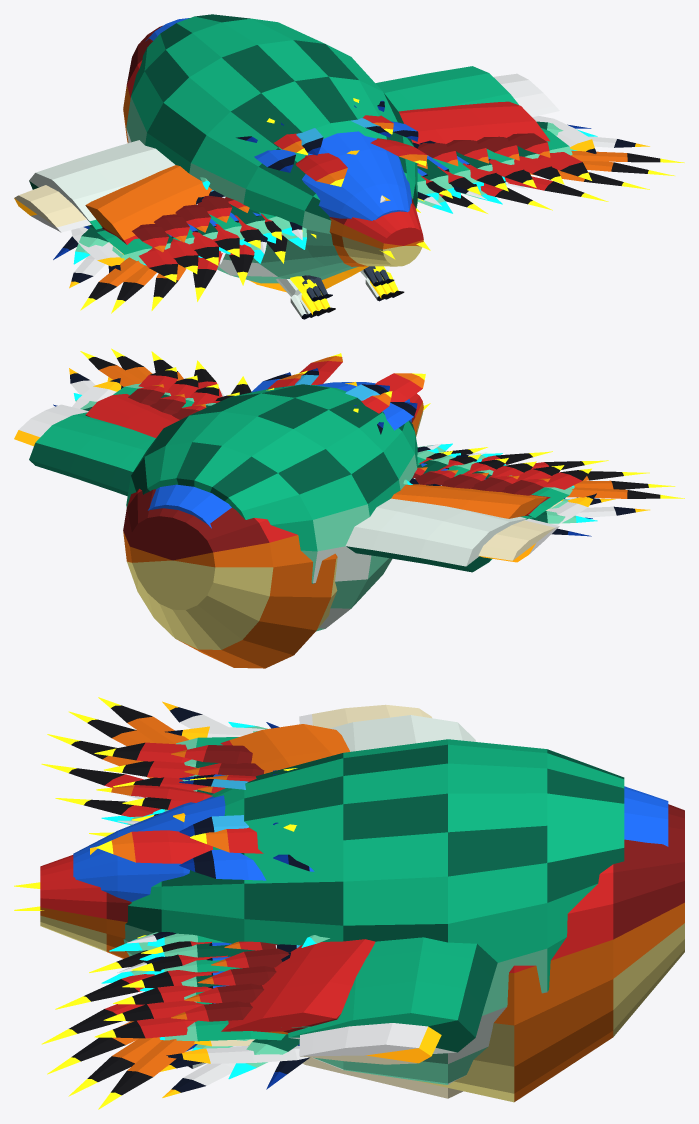
The model's file is skypeck_birds.glb.
3 views of the same model, one above another, from view 1: azimuth 30°, elevation 25°; view 2: azimuth 150°, elevation 25°; view 3: azimuth 270°, elevation 25° (orthographic). The views are drawn at different scales.
Visible parts, largest first — view 1: emerald_owl__body, crimson_falcon__wing_inner_L, crimson_falcon__wing_inner_R, sky_jay__body, crimson_falcon__body, emerald_owl__wing_inner_L, emerald_owl__wing_inner_R, crimson_falcon__wing_outer_L, crimson_falcon__wing_outer_R, origami_glider__wing_inner_L, origami_glider__wing_inner_R, emerald_owl__wing_outer_L (+4 smaller); view 2: emerald_owl__body, crimson_falcon__body, emerald_owl__wing_inner_L, crimson_falcon__wing_inner_L, emerald_owl__wing_inner_R, crimson_falcon__wing_inner_R, sky_jay__body, crimson_falcon__wing_outer_L, origami_glider__wing_inner_L, crimson_falcon__wing_outer_R, origami_glider__wing_inner_R, emerald_owl__wing_outer_L (+1 smaller); view 3: emerald_owl__body, crimson_falcon__body, crimson_falcon__wing_inner_R, emerald_owl__wing_inner_R, sky_jay__body, crimson_falcon__wing_inner_L, origami_glider__wing_inner_R, crimson_falcon__wing_outer_R, crimson_falcon__wing_outer_L, emerald_owl__wing_inner_L, origami_glider__wing_inner_L, emerald_owl__wing_outer_R (+4 smaller).
Boxes of the visible parts, <box> form: emerald_owl__body: <box>126,14,417,319</box>; crimson_falcon__wing_inner_L: <box>85,165,302,282</box>; crimson_falcon__wing_inner_R: <box>398,101,591,201</box>; sky_jay__body: <box>145,18,418,301</box>; crimson_falcon__body: <box>123,25,427,315</box>; emerald_owl__wing_inner_L: <box>29,140,294,265</box>; emerald_owl__wing_inner_R: <box>375,66,572,200</box>; crimson_falcon__wing_outer_L: <box>80,233,316,313</box>; crimson_falcon__wing_outer_R: <box>416,150,684,213</box>; origami_glider__wing_inner_L: <box>14,185,124,270</box>; origami_glider__wing_inner_R: <box>493,73,596,153</box>; emerald_owl__wing_outer_L: <box>73,227,306,264</box>; emerald_owl__body: <box>126,384,417,631</box>; crimson_falcon__body: <box>123,353,425,668</box>; emerald_owl__wing_inner_L: <box>345,448,574,572</box>; crimson_falcon__wing_inner_L: <box>391,450,591,518</box>; emerald_owl__wing_inner_R: <box>29,382,215,496</box>; crimson_falcon__wing_inner_R: <box>85,367,239,437</box>; sky_jay__body: <box>148,368,417,528</box>; crimson_falcon__wing_outer_L: <box>444,447,684,498</box>; origami_glider__wing_inner_L: <box>478,493,596,562</box>; crimson_falcon__wing_outer_R: <box>80,348,251,397</box>; origami_glider__wing_inner_R: <box>14,378,121,446</box>; emerald_owl__wing_outer_L: <box>417,443,597,523</box>; emerald_owl__body: <box>123,739,624,1084</box>; crimson_falcon__body: <box>40,768,684,1102</box>; crimson_falcon__wing_inner_R: <box>94,939,375,1038</box>; emerald_owl__wing_inner_R: <box>139,933,497,1053</box>; sky_jay__body: <box>73,770,668,901</box>; crimson_falcon__wing_inner_L: <box>94,724,350,821</box>; origami_glider__wing_inner_R: <box>166,1023,441,1064</box>; crimson_falcon__wing_outer_R: <box>41,935,194,1109</box>; crimson_falcon__wing_outer_L: <box>41,697,188,836</box>; emerald_owl__wing_inner_L: <box>143,715,475,816</box>; origami_glider__wing_inner_L: <box>165,704,431,739</box>; emerald_owl__wing_outer_R: <box>101,932,299,1079</box>.
Bounding box in the file's own units: 3.54 × 1.34 × 2.44.
